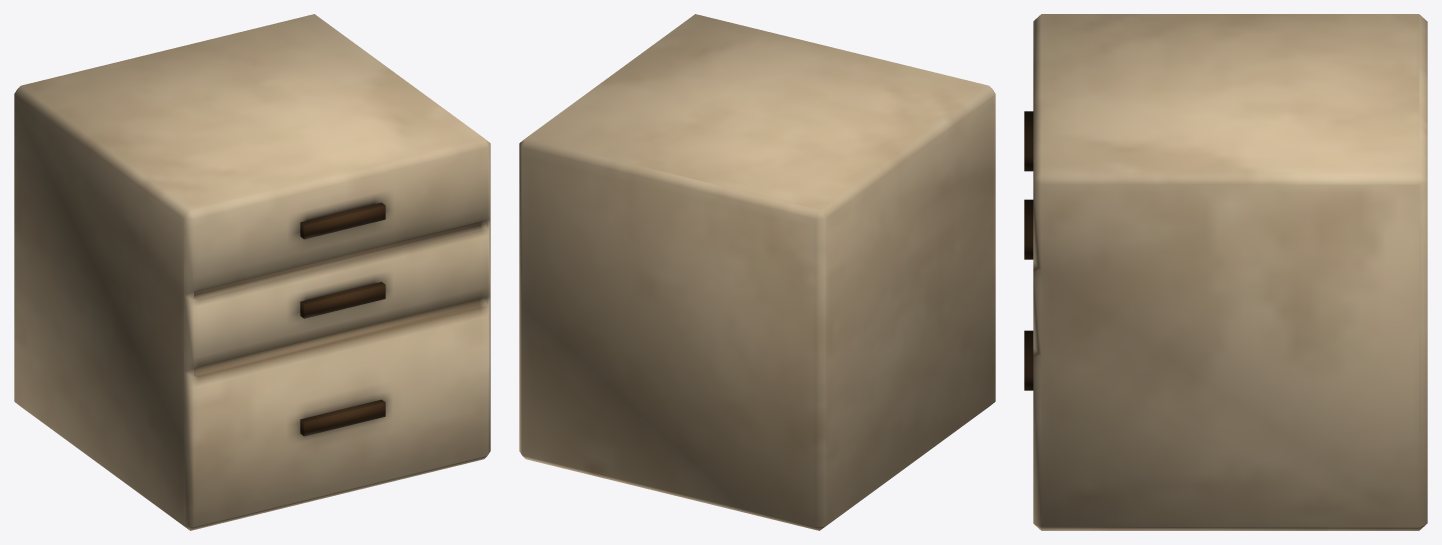
Rendered from Kitchen Cabinet1_2.fbx.
The picture shows the model from 3 angles, left to right: view 1: azimuth 30°, elevation 25°; view 2: azimuth 150°, elevation 25°; view 3: azimuth 270°, elevation 25°; orthographic projection. The views are drawn at different scales.
Parts seen in each view (by area): view 1: Kitchen Cabinet1_2; view 2: Kitchen Cabinet1_2; view 3: Kitchen Cabinet1_2.
Boxes of the visible parts, box(x1,y1,x2,y2) form: Kitchen Cabinet1_2: box(14, 14, 490, 530); Kitchen Cabinet1_2: box(519, 14, 995, 530); Kitchen Cabinet1_2: box(1024, 14, 1427, 530).
Size of the model in its own units: 1 by 1 by 1.02.
1 material, 1 textured.
